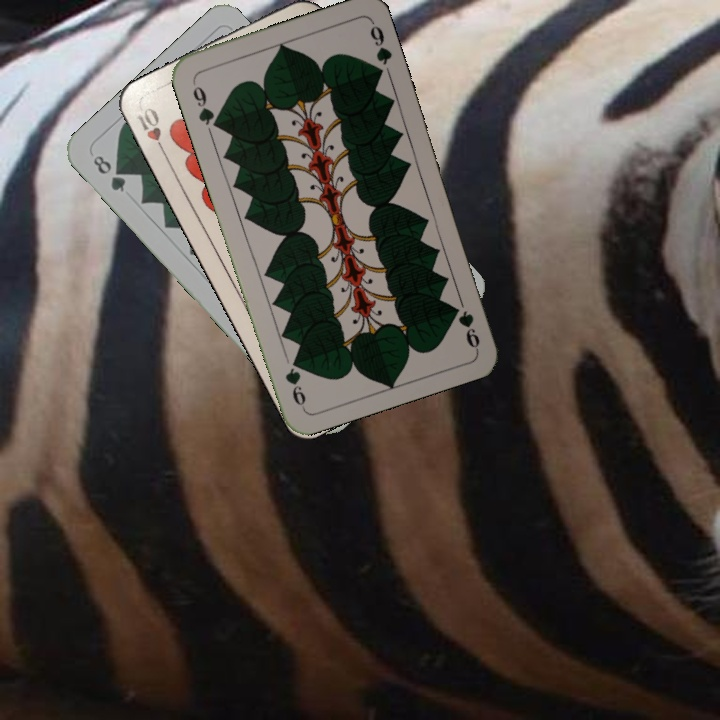G8: (88, 151, 129, 195)
G9: (188, 77, 223, 132), (449, 302, 483, 352)
H10: (132, 103, 170, 159)
